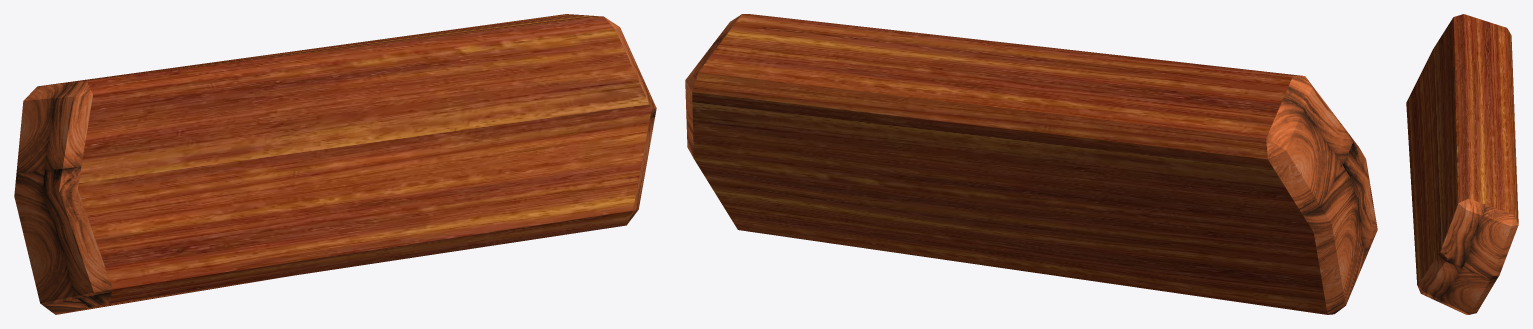
The model's file is quanyi_J_D_yiquan0506_sai.FBX.
The picture shows the model from 3 angles, left to right: view 1: azimuth 30°, elevation 25°; view 2: azimuth 150°, elevation 25°; view 3: azimuth 270°, elevation 25°; orthographic projection. The views are drawn at different scales.
Parts seen in each view (by area): view 1: quanyi_J_D_yiquan0506_sai; view 2: quanyi_J_D_yiquan0506_sai; view 3: quanyi_J_D_yiquan0506_sai.
Part boxes in pixels (left/top/right/bottom): quanyi_J_D_yiquan0506_sai: left=14, top=14, right=656, bottom=314; quanyi_J_D_yiquan0506_sai: left=685, top=14, right=1377, bottom=314; quanyi_J_D_yiquan0506_sai: left=1406, top=14, right=1518, bottom=314.
Bounding box in the file's own units: 3.1 × 1.32 × 0.8573.
Materials: 2 (2 with a texture image).
